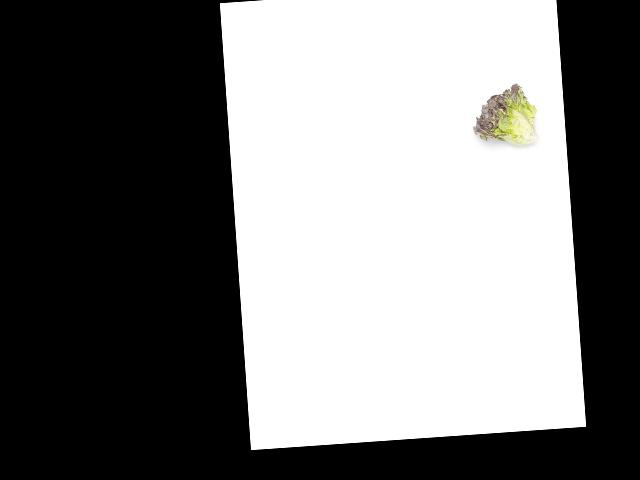lettuce: (466, 83, 541, 149)
